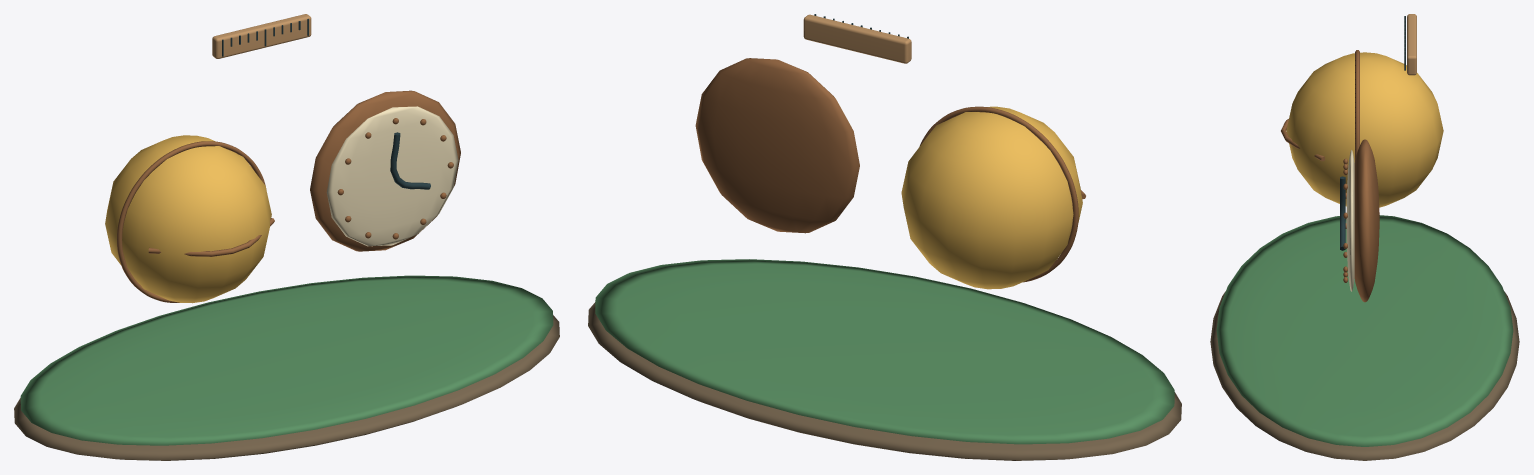
Rendered from complete-third-big-approximation.glb.
The picture shows the model from 3 angles, left to right: view 1: azimuth 30°, elevation 25°; view 2: azimuth 150°, elevation 25°; view 3: azimuth 270°, elevation 25°; orthographic projection. The views are drawn at different scales.
Visible parts, largest first — view 1: complete-third-big-approximation_surface_01, complete-third-big-approximation_surface_02, complete-third-big-approximation_surface_04, complete-third-big-approximation_surface_00, complete-third-big-approximation_surface_03, complete-third-big-approximation_surface_06, complete-third-big-approximation_surface_05; view 2: complete-third-big-approximation_surface_01, complete-third-big-approximation_surface_02, complete-third-big-approximation_surface_03, complete-third-big-approximation_surface_00, complete-third-big-approximation_surface_06; view 3: complete-third-big-approximation_surface_01, complete-third-big-approximation_surface_02, complete-third-big-approximation_surface_00, complete-third-big-approximation_surface_03, complete-third-big-approximation_surface_04, complete-third-big-approximation_surface_06, complete-third-big-approximation_surface_05.
Boxes of the visible parts, left/top/right/bottom form: complete-third-big-approximation_surface_01: left=20, top=275, right=553, bottom=445; complete-third-big-approximation_surface_02: left=105, top=135, right=271, bottom=303; complete-third-big-approximation_surface_04: left=326, top=106, right=458, bottom=246; complete-third-big-approximation_surface_00: left=14, top=315, right=559, bottom=460; complete-third-big-approximation_surface_03: left=117, top=90, right=460, bottom=302; complete-third-big-approximation_surface_06: left=212, top=14, right=311, bottom=58; complete-third-big-approximation_surface_05: left=222, top=19, right=430, bottom=189; complete-third-big-approximation_surface_01: left=595, top=259, right=1174, bottom=444; complete-third-big-approximation_surface_02: left=901, top=106, right=1082, bottom=289; complete-third-big-approximation_surface_03: left=695, top=58, right=1085, bottom=282; complete-third-big-approximation_surface_00: left=588, top=302, right=1181, bottom=460; complete-third-big-approximation_surface_06: left=803, top=14, right=911, bottom=63; complete-third-big-approximation_surface_01: left=1216, top=215, right=1513, bottom=446; complete-third-big-approximation_surface_02: left=1286, top=52, right=1443, bottom=207; complete-third-big-approximation_surface_00: left=1210, top=291, right=1519, bottom=460; complete-third-big-approximation_surface_03: left=1281, top=50, right=1379, bottom=302; complete-third-big-approximation_surface_04: left=1346, top=150, right=1354, bottom=291; complete-third-big-approximation_surface_06: left=1407, top=14, right=1416, bottom=75; complete-third-big-approximation_surface_05: left=1340, top=16, right=1405, bottom=250.
Size of the model in its own units: 4.56 by 2.87 by 2.5.
